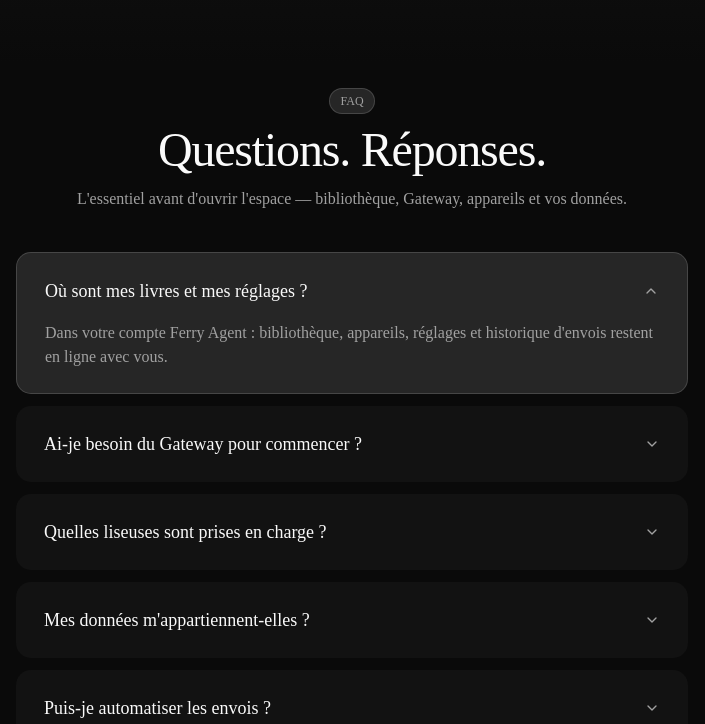
Test case: UI harness — landing FAQ and footer › renders #faq as an accessible single-open accordion without Reveal fade
Expected: the heading "Questions. Réponses." is shown, top-left (158, 130), bottom-right (546, 170)
Expected: the element with test id "landing-faq" shows "en ligne", top-left (45, 324), bottom-right (653, 365)
Click the button "Ai-je besoin du Gateway pour commencer ?" at (352, 444), box top-left (44, 430), bottom-right (660, 458)
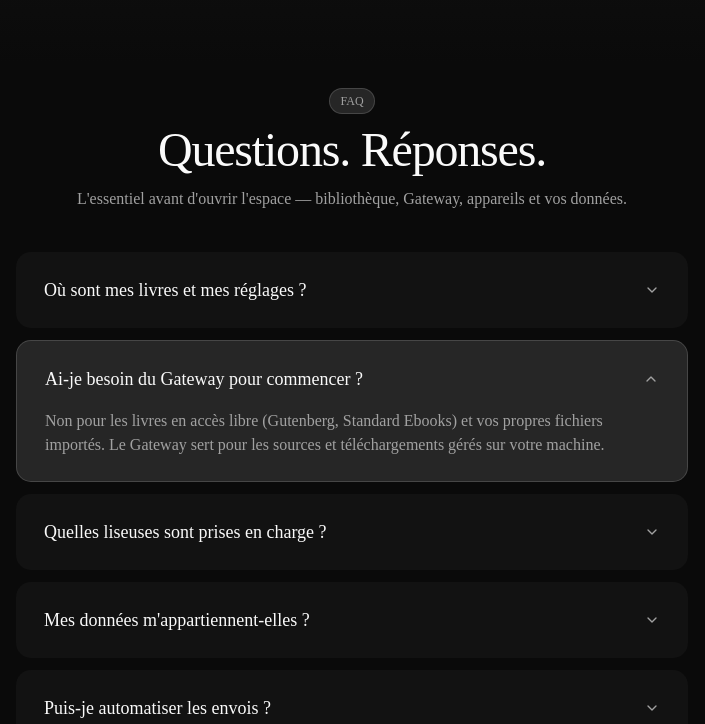
Now the button "Où sont mes livres et mes réglages ?" is collapsed, box top-left (44, 276), bottom-right (660, 304)
Now the button "Ai-je besoin du Gateway pour commencer ?" is expanded, box top-left (45, 365), bottom-right (659, 393)
Now the element with test id "landing-faq" shows "gutenberg", box top-left (45, 412), bottom-right (604, 453)
Click the button "Puis-je automatiser les envois ?" at (157, 708), box top-left (44, 694), bottom-right (660, 722)
(page scrolled)
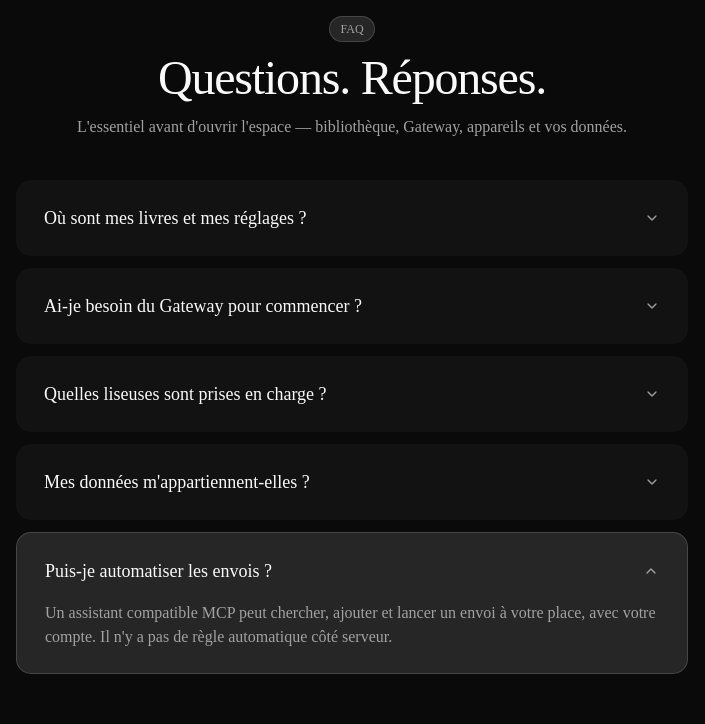
Now the element with test id "landing-faq" shows "mcp", box top-left (45, 604), bottom-right (656, 645)
Now the element with test id "landing-faq" shows "règle automatique", box top-left (45, 604), bottom-right (656, 645)
